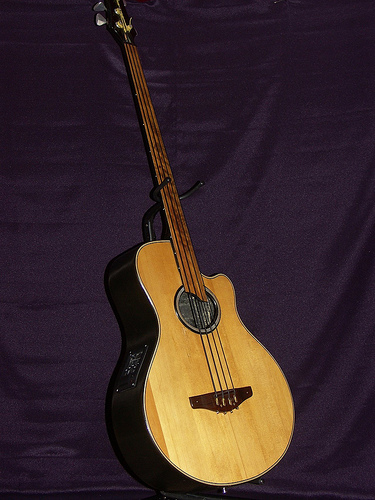guitar: (90, 1, 297, 494)
